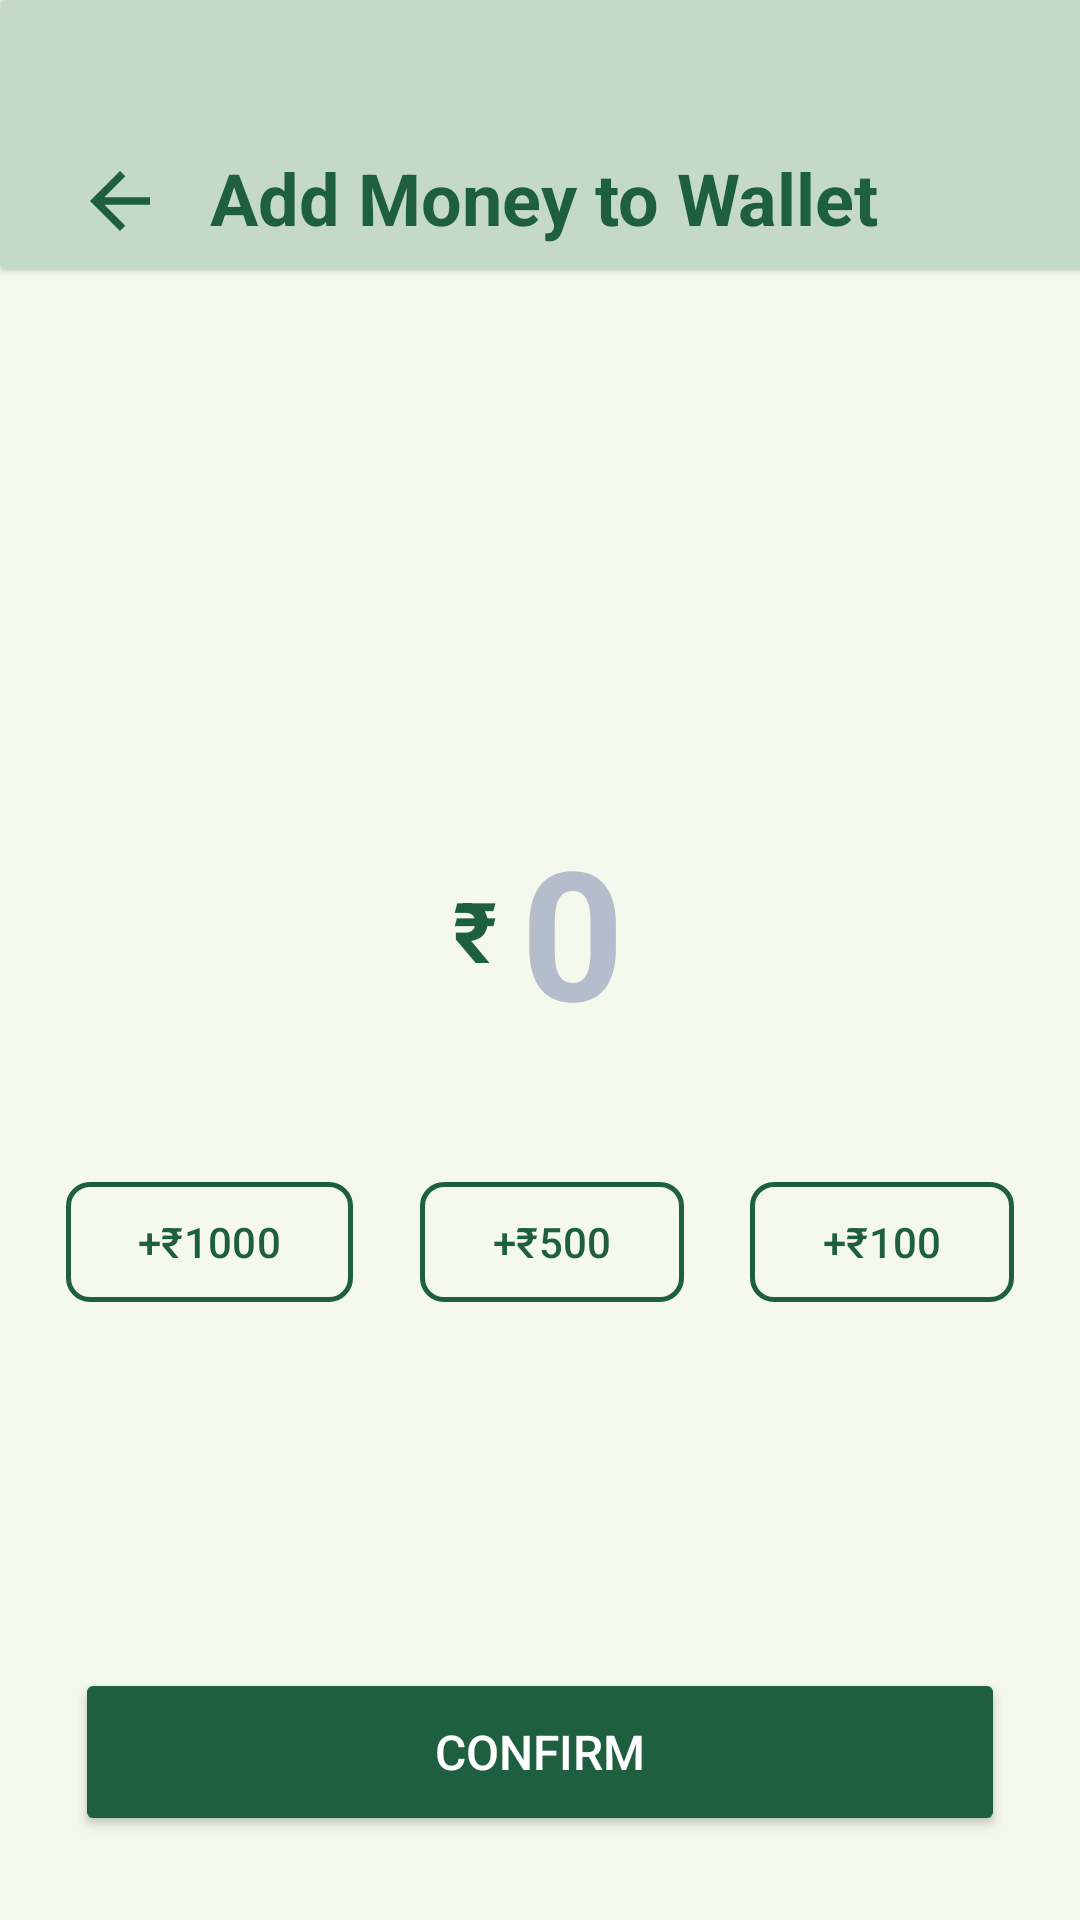

Icon click points for this 1080px×1920px phone screenshot, format [x,y]:
arrow back: [120,201]
